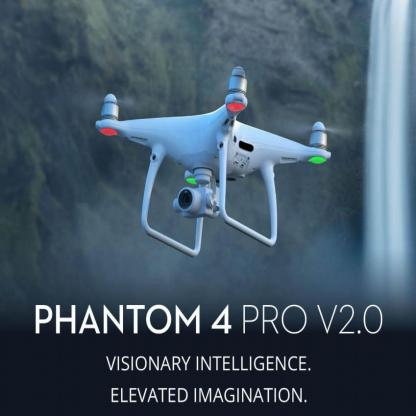drone: (86, 68, 346, 214)
